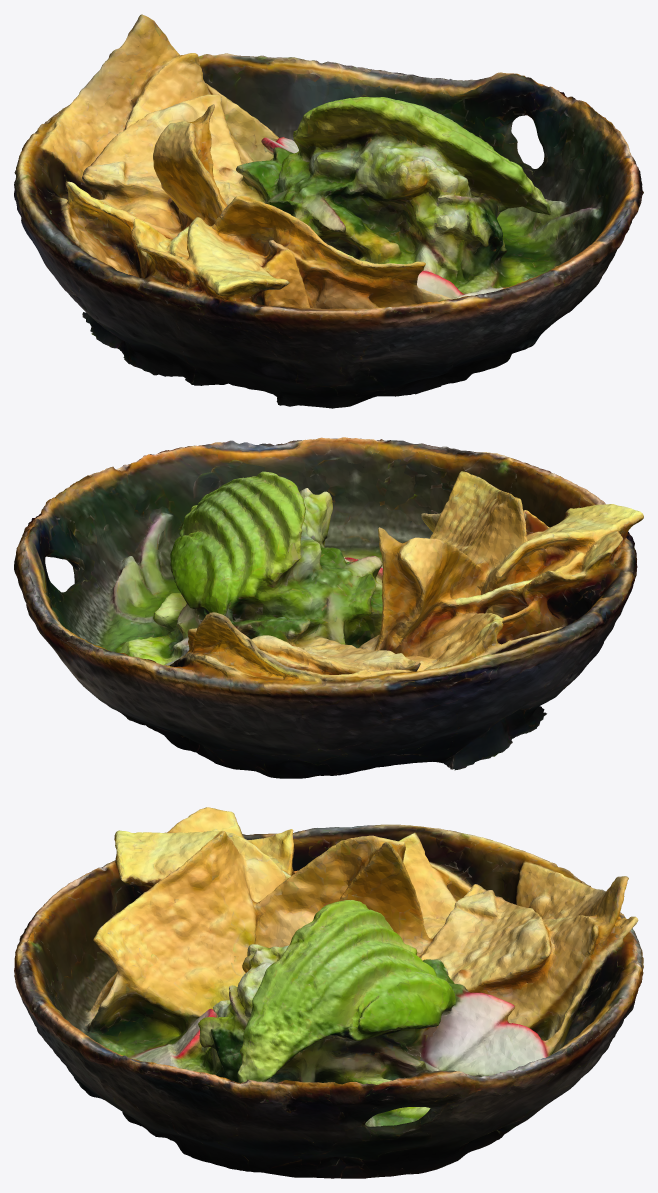
The model's file is Nachos and avocado San Francisco-compressed-compressed.glb.
3 views of the same model, one above another, from view 1: azimuth 30°, elevation 25°; view 2: azimuth 150°, elevation 25°; view 3: azimuth 270°, elevation 25° (orthographic).
Parts seen in each view (by area): view 1: mesh_0; view 2: mesh_0; view 3: mesh_0.
Boxes of the visible parts, left/top/right/bottom form: mesh_0: left=14, top=14, right=643, bottom=408; mesh_0: left=14, top=437, right=643, bottom=778; mesh_0: left=14, top=807, right=643, bottom=1178.
Size of the model in its own units: 0.2105 by 0.0746 by 0.2123.
1 material, 1 textured.
